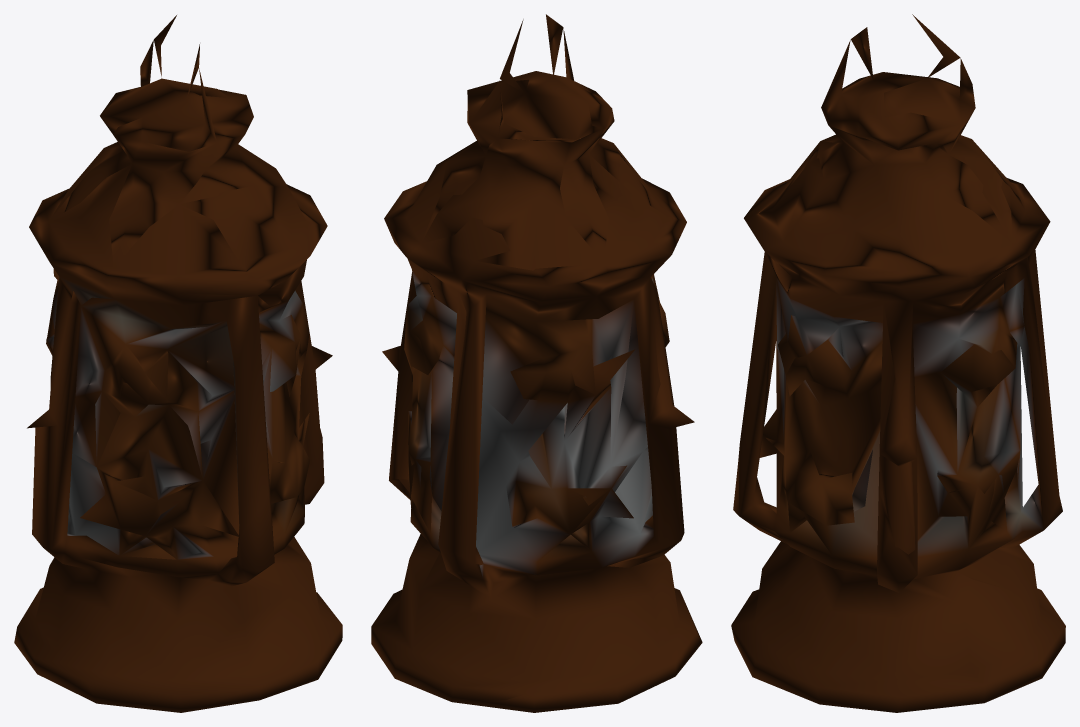
Rendered from gen3d-desert-lantern-lod1.glb.
3 views of the same model, side by side, from view 1: azimuth 30°, elevation 25°; view 2: azimuth 150°, elevation 25°; view 3: azimuth 270°, elevation 25° (orthographic).
Parts seen in each view (by area): view 1: part_0; view 2: part_0; view 3: part_0.
Boxes of the visible parts, x1,y1,x2,y2 form: part_0: (14,15,342,712); part_0: (371,14,702,712); part_0: (731,14,1065,712).
Bounding box in the file's own units: 0.5126 × 0.9902 × 0.4746.
